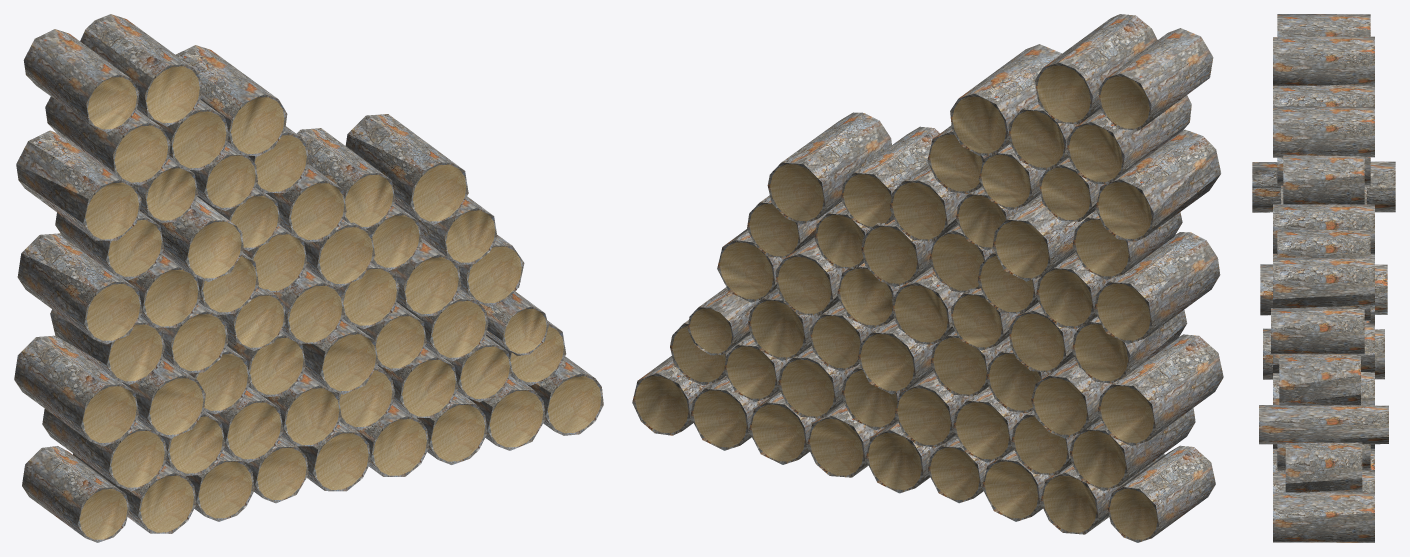
Rendered from drewno.obj.
The picture shows the model from 3 angles, left to right: view 1: azimuth 30°, elevation 25°; view 2: azimuth 150°, elevation 25°; view 3: azimuth 270°, elevation 25°; orthographic projection. The views are drawn at different scales.
Visible parts, largest first — view 1: Walec.010_Walec.014; view 2: Walec.010_Walec.014; view 3: Walec.010_Walec.014.
Boxes of the visible parts, x1,y1,x2,y2 form: Walec.010_Walec.014: (14,14,603,542); Walec.010_Walec.014: (632,14,1223,542); Walec.010_Walec.014: (1252,14,1395,542).
Bounding box in the file's own units: 1.07 × 0.9185 × 0.3361.
